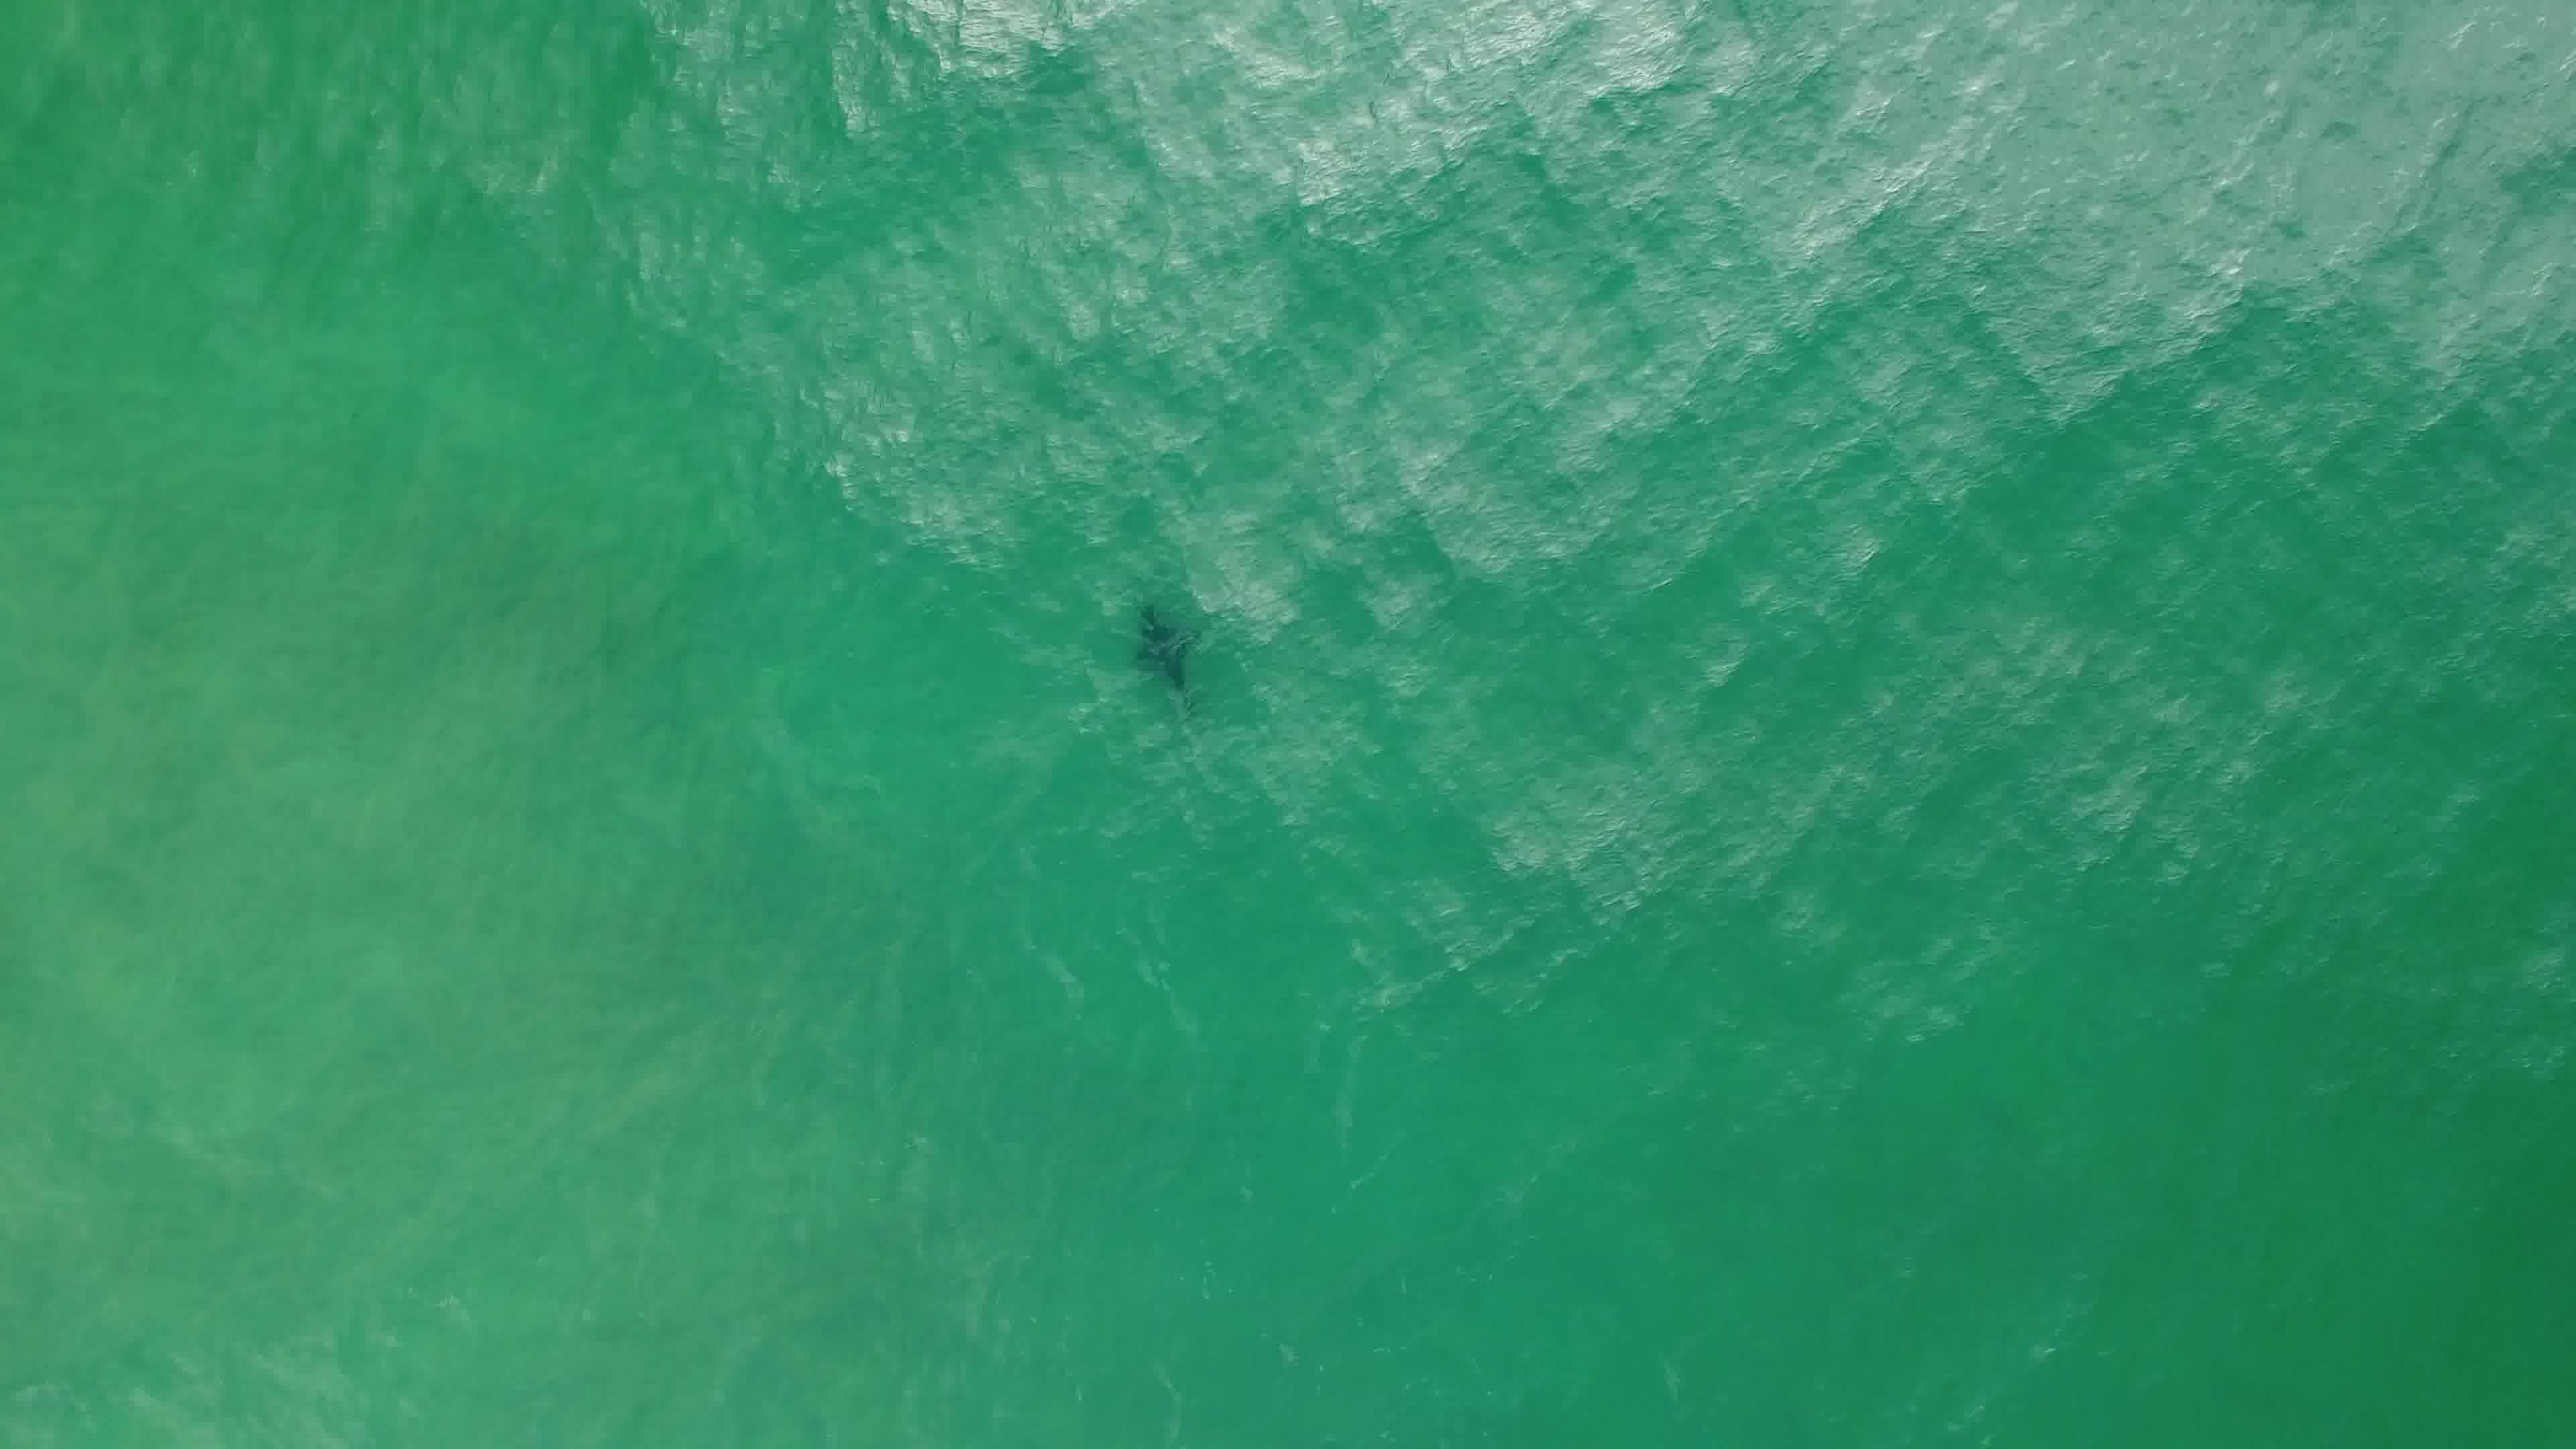shark: (1122, 596, 1210, 718)
